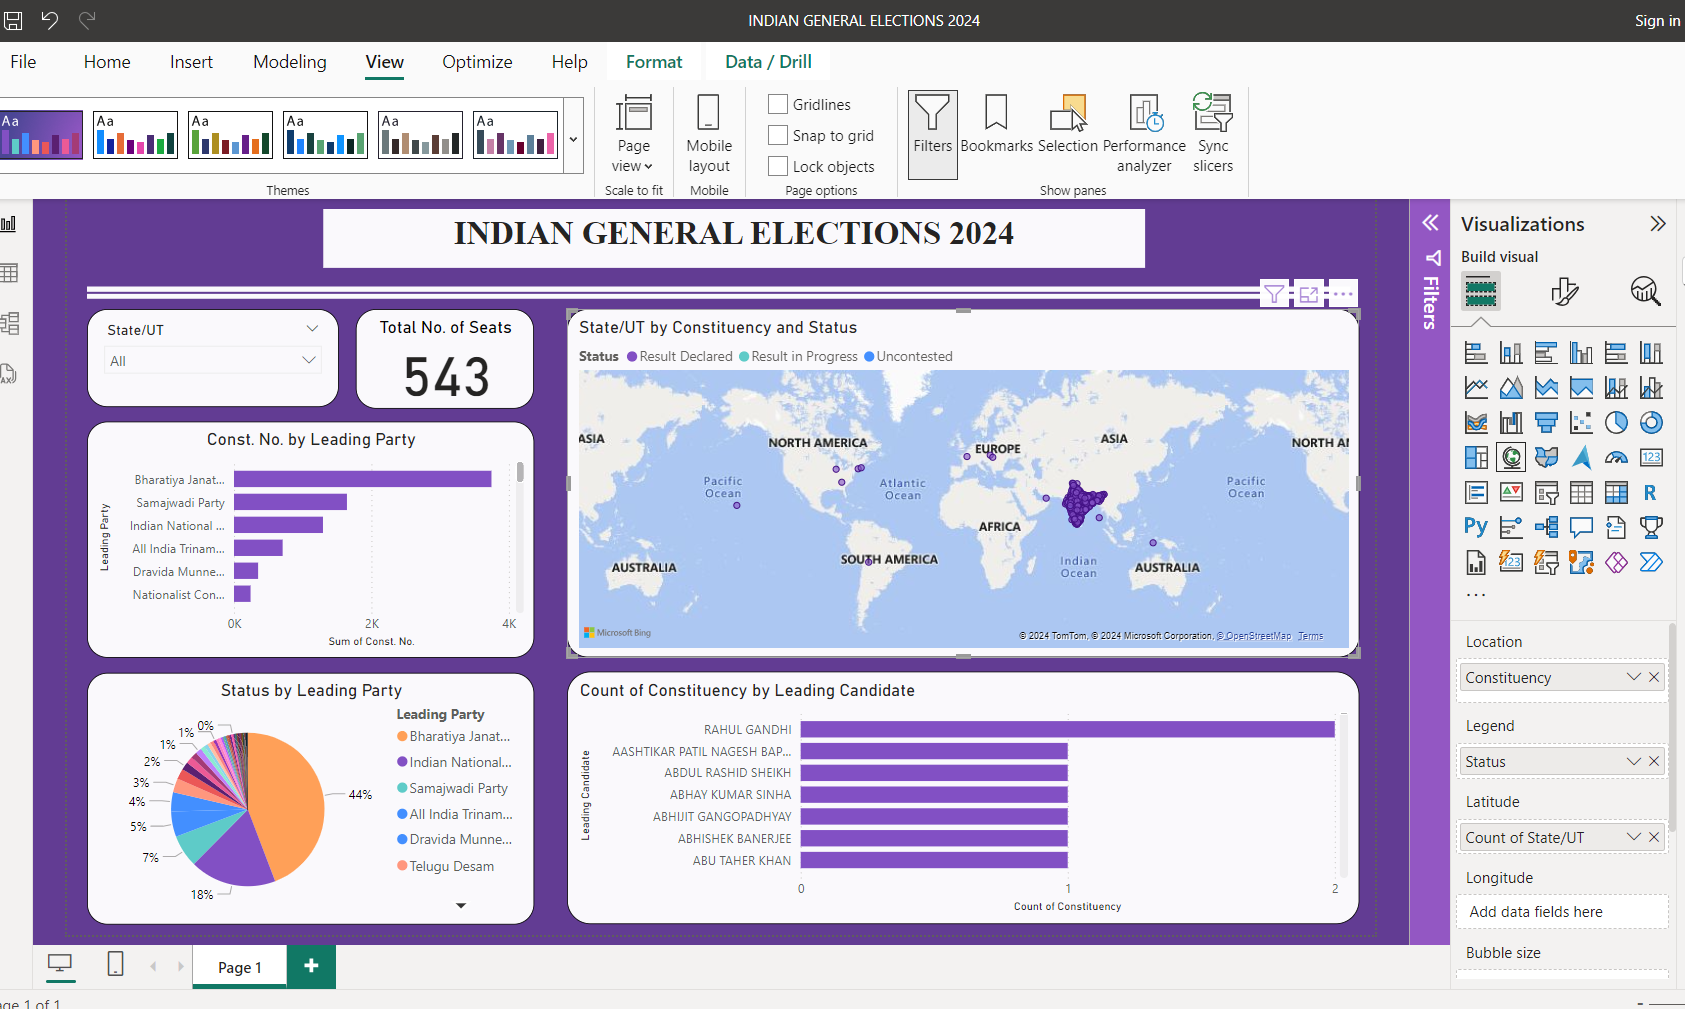

Layout of this report page (visuals, bound fields, positions):
{"tool":"powerbi","page":{"name":"Page 1","canvas":[1280,720],"ordinal":0},"visuals":[{"type":"card","title":"Total No. of Seats","fields":{"Values":["Indian General Elections 2024.Const. No."]},"box":[282.2,107.4,174.4,97.7],"z":0,"group":"g1"},{"type":"slicer","fields":{"Values":["Indian General Elections 2024.State/UT"]},"box":[19.3,107.4,246.4,96.3],"z":0},{"type":"clusteredBarChart","title":"Const. No. by Leading Party","fields":{"Category":["Indian General Elections 2024.Leading Party"],"Y":["Indian General Elections 2024.Const. No."]},"box":[19.3,217.5,437.7,231.2],"z":1000},{"type":"pieChart","title":"Status by Leading Party","fields":{"Category":["Indian General Elections 2024.Leading Party"],"Y":["Indian General Elections 2024.Status"]},"box":[19.3,463.8,437.7,246.4],"z":2000},{"type":"map","title":"State/UT by Constituency and Status","fields":{"Series":["Indian General Elections 2024.Status"],"Category":["Indian General Elections 2024.Constituency"],"Y":["Indian General Elections 2024.State/UT"]},"box":[489.1,107.6,775.3,341.2],"z":3000},{"type":"group","id":"g1","title":"Group 1","box":[282.2,107.4,174.4,97.7],"z":4000},{"type":"shape","box":[19.3,85.3,1236,12.4],"z":5000},{"type":"textbox","box":[250.5,9.6,803.8,57.8],"z":6000},{"type":"clusteredBarChart","fields":{"Category":["Indian General Elections 2024.Leading Candidate"],"Y":["Indian General Elections 2024.Constituency"]},"box":[489.1,462.2,775.3,247],"z":6001}]}

Visuals, with their boxes on the page's 1280x720 design canvas (x1, y1, x2, y2). These are canvas units, not pixel positions in the 1685x1009 screenshot, which may show the page scaled, cropped or inside an application window:
"Total No. of Seats" card: x1=282, y1=107, x2=457, y2=205
slicer - Indian General Elections 2024.State/UT: x1=19, y1=107, x2=266, y2=204
"Const. No. by Leading Party" clusteredBarChart: x1=19, y1=218, x2=457, y2=449
"Status by Leading Party" pieChart: x1=19, y1=464, x2=457, y2=710
"State/UT by Constituency and Status" map: x1=489, y1=108, x2=1264, y2=449
"Group 1" group: x1=282, y1=107, x2=457, y2=205
shape: x1=19, y1=85, x2=1255, y2=98
textbox: x1=250, y1=10, x2=1054, y2=67
clusteredBarChart - Indian General Elections 2024.Leading Candidate x Indian General Elections 2024.Constituency: x1=489, y1=462, x2=1264, y2=709
